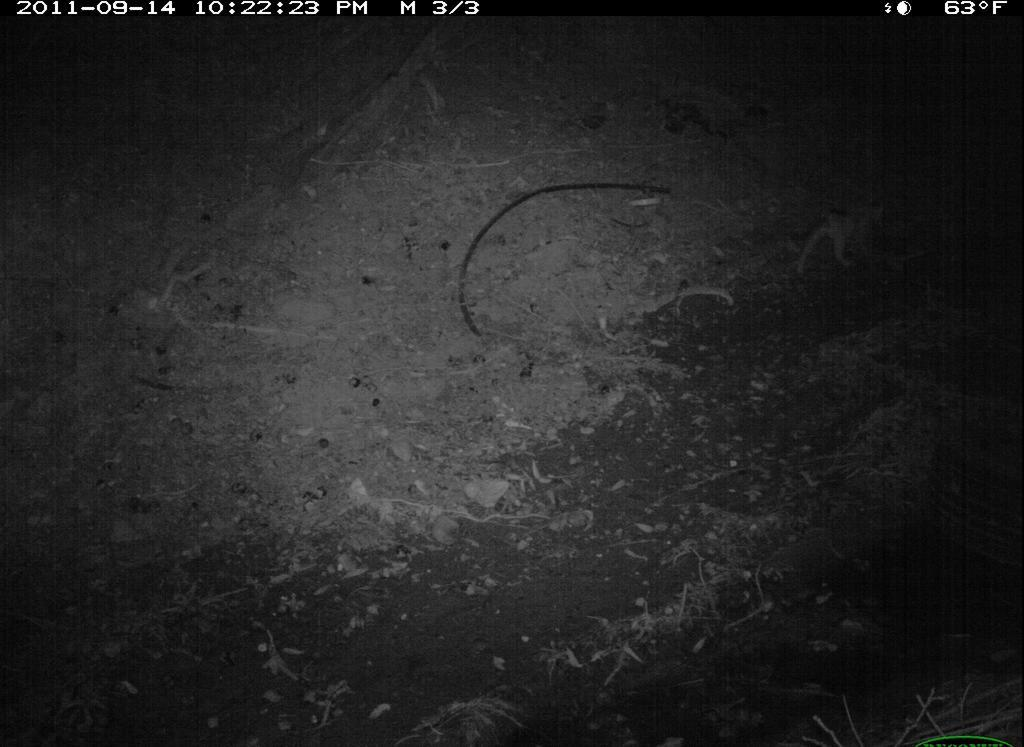cat: (790, 193, 900, 285)
